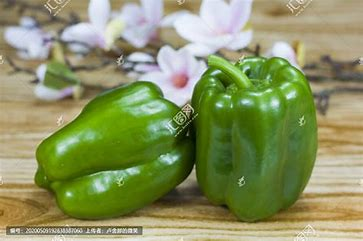fruit_pepper: (32, 80, 198, 221), (189, 52, 320, 224)
